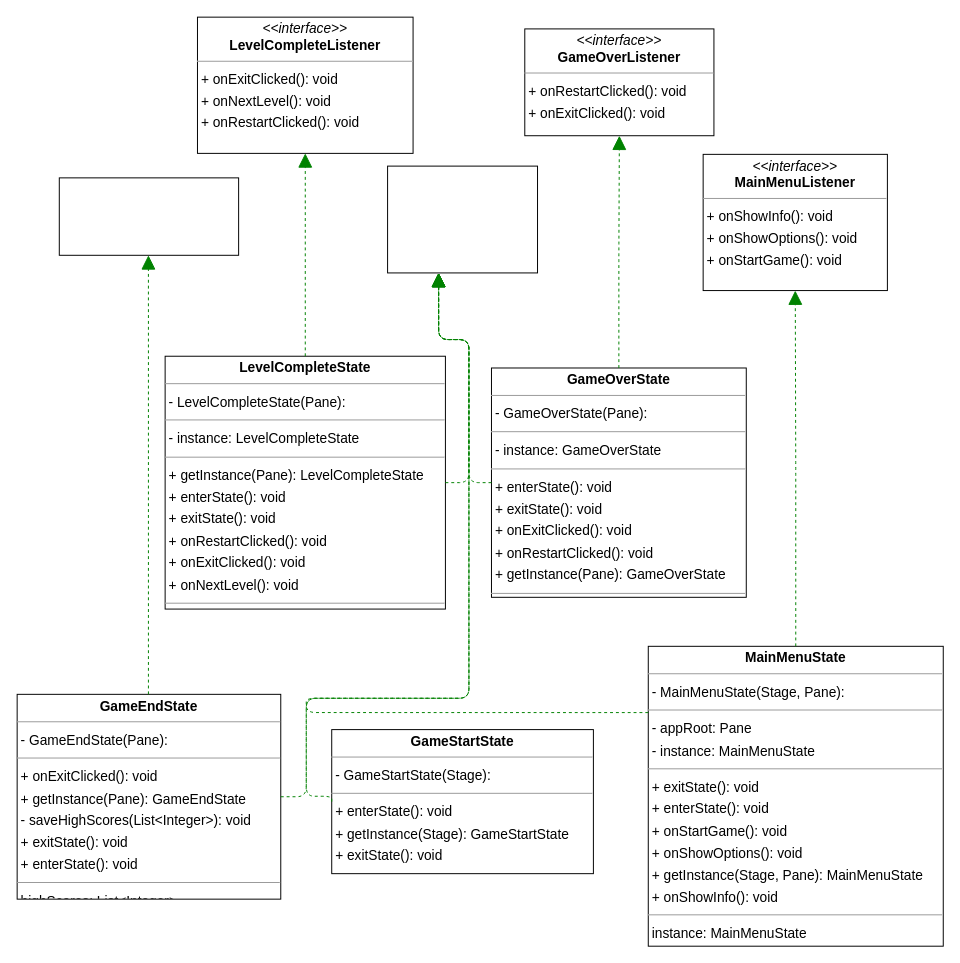
Some shapes in this 960 by 963 pixel diagram are drawn without their labels. The shapes that lost their labels are listed below. From the top down, each one's centre as x and y in pixels, then its label:
point 148,216: <<interface>> GameEndListener + onExitClicked(): void
point 462,219: <<interface>> GameState + enterState(): void + exitState(): void
